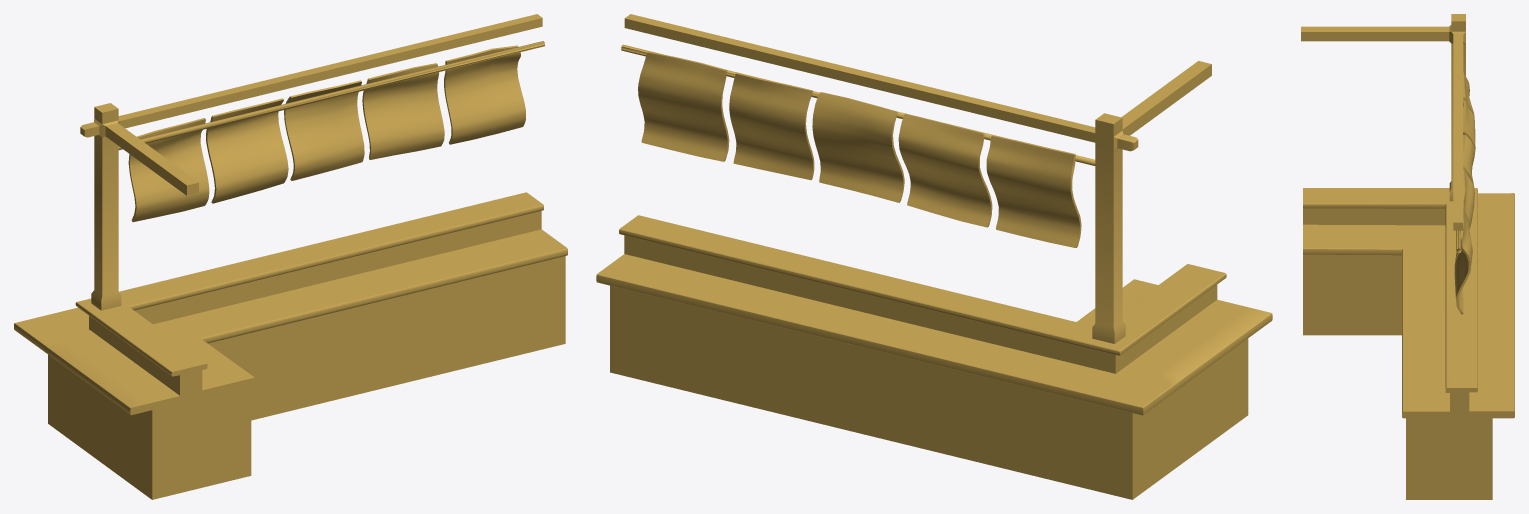
The model's file is Bar.fbx.
The picture shows the model from 3 angles, left to right: view 1: azimuth 30°, elevation 25°; view 2: azimuth 150°, elevation 25°; view 3: azimuth 270°, elevation 25°; orthographic projection. The views are drawn at different scales.
Parts seen in each view (by area): view 1: m_Bar; view 2: m_Bar; view 3: m_Bar.
Boxes of the visible parts, <box> form: m_Bar: <box>14,14,567,499</box>; m_Bar: <box>596,14,1272,499</box>; m_Bar: <box>1301,14,1514,499</box>.
Bounding box in the file's own units: 1263 × 773 × 515.
